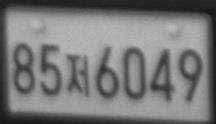0: (122, 45, 146, 99)
4: (149, 47, 175, 102)
5: (39, 43, 62, 95)
6: (95, 46, 119, 99)
8: (12, 41, 36, 94)
9: (177, 47, 202, 102)
저: (65, 53, 90, 97)
